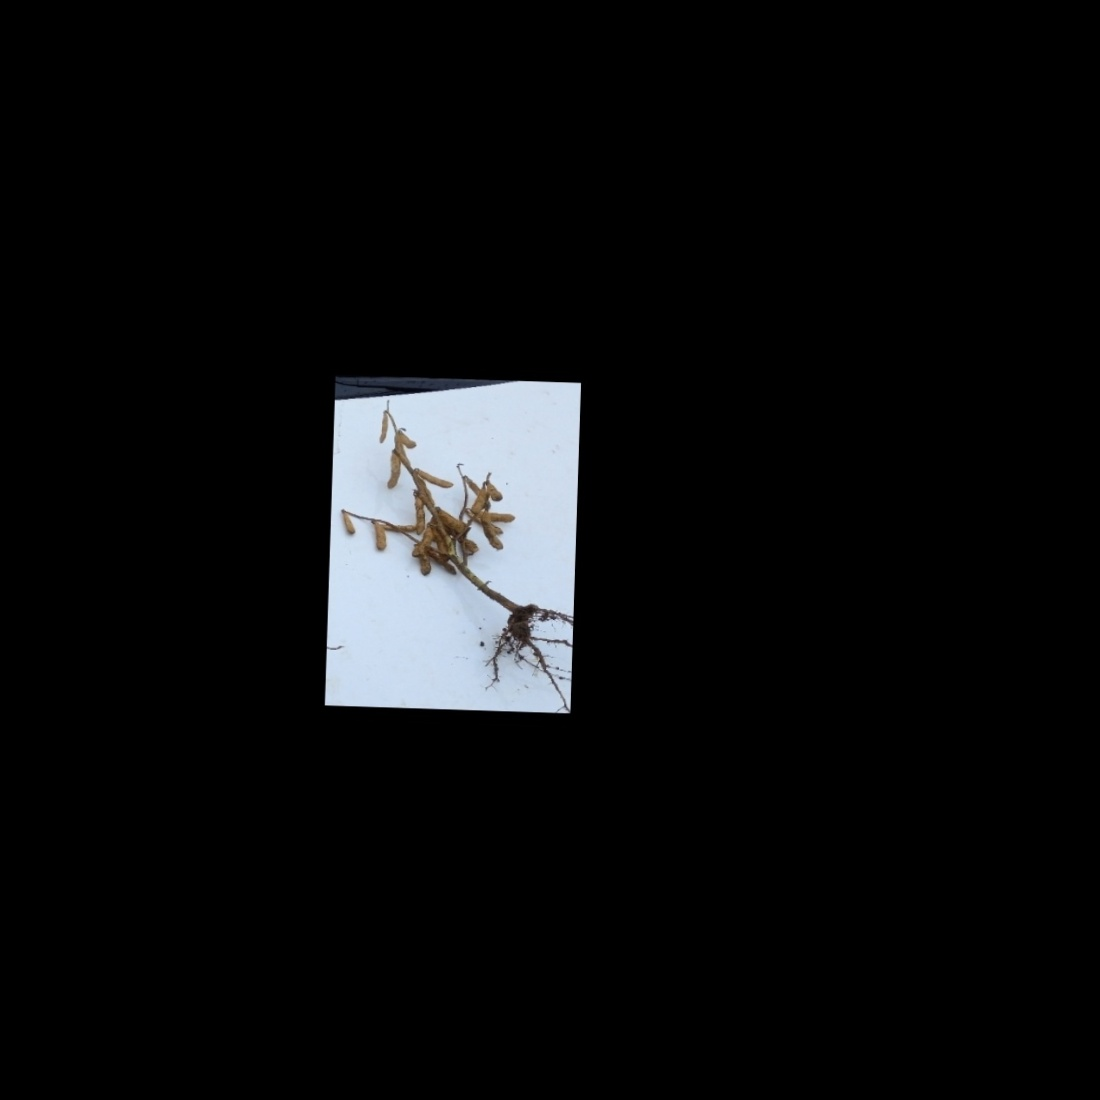pod: (415, 464, 454, 489), (369, 522, 388, 555), (386, 453, 401, 492), (412, 496, 425, 536), (340, 512, 358, 541), (398, 426, 419, 449), (487, 479, 506, 505), (375, 412, 388, 445)
soy: (331, 397, 573, 669)
